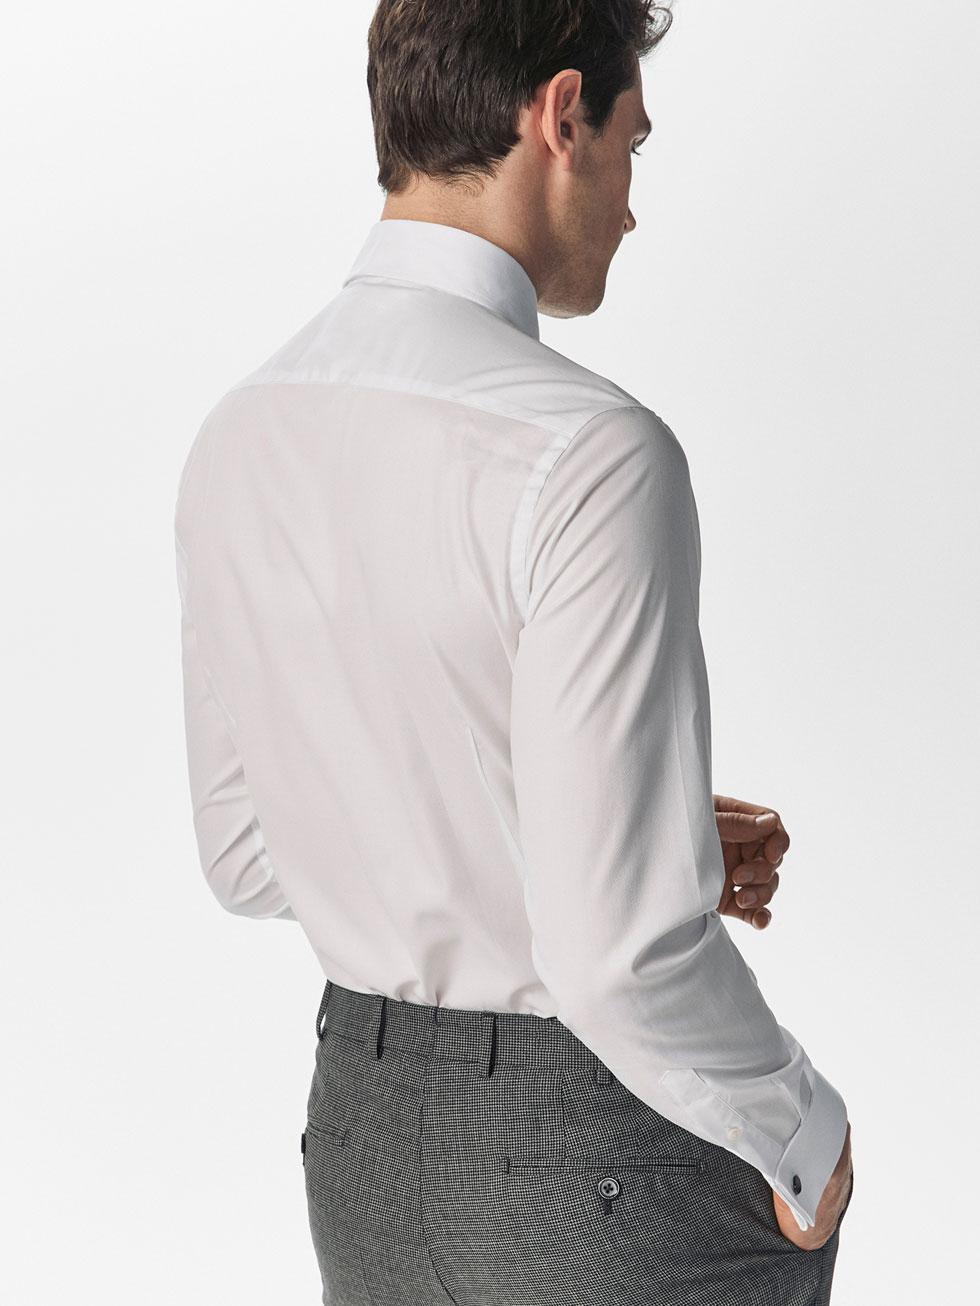teeshirt: (157, 213, 861, 1183)
